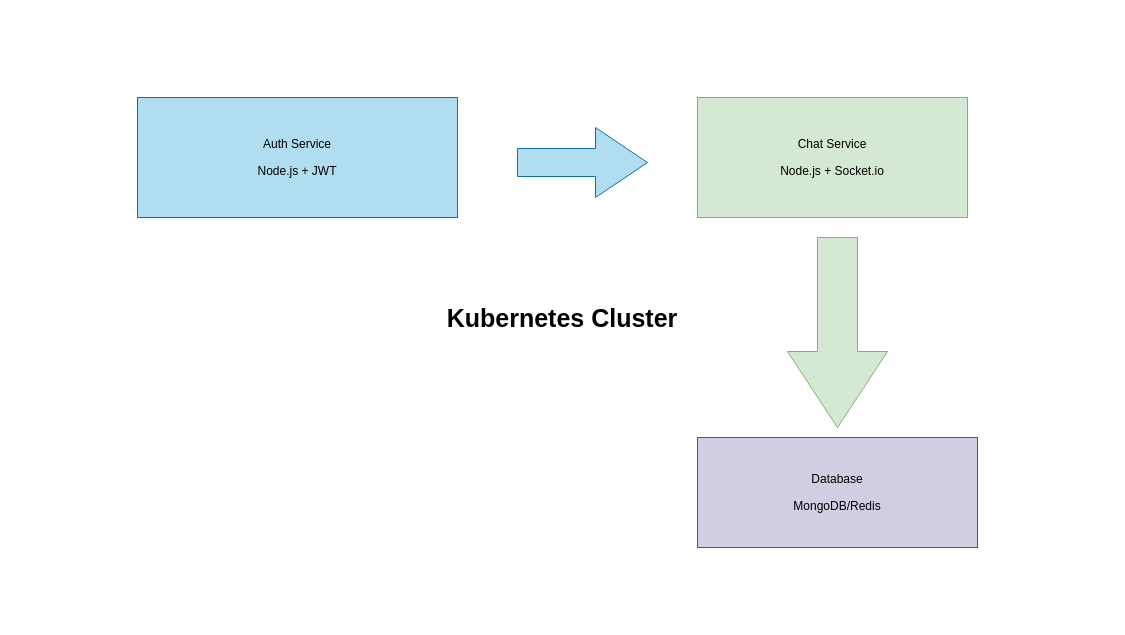
This 1125x635 diagram has some shape labels left out. Each missing label, with the centre of its shape:
API Calls: the point at 582,162
Store Messages: the point at 837,332
